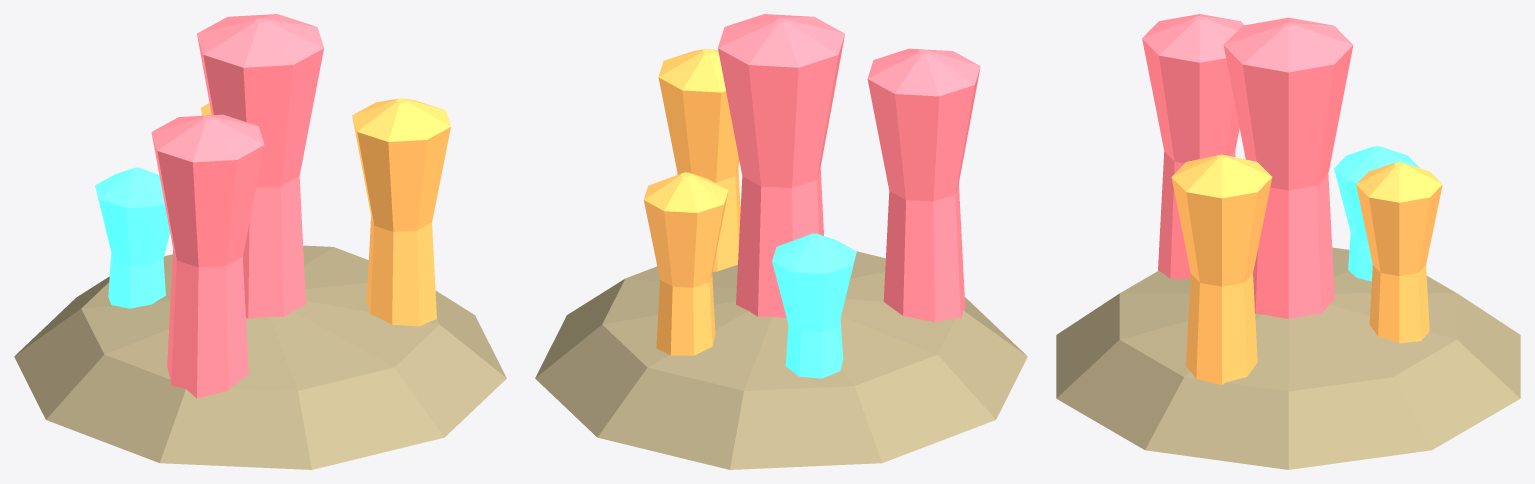
Rendered from coral.glb.
3 renders of one model, left to right at view 1: azimuth 30°, elevation 25°; view 2: azimuth 150°, elevation 25°; view 3: azimuth 270°, elevation 25°, orthographic.
Parts seen in each view (by area): view 1: LOD0; view 2: LOD0; view 3: LOD0.
Part boxes in pixels (x1,y1,x2,y2): LOD0: (14, 14, 506, 469); LOD0: (535, 14, 1027, 469); LOD0: (1056, 14, 1520, 469).
Size of what is drawn, in the model's own units: 4.4 by 3.4 by 4.18.
